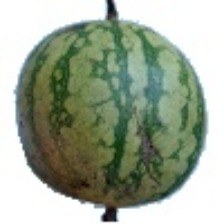watermelon: (27, 38, 194, 224)
